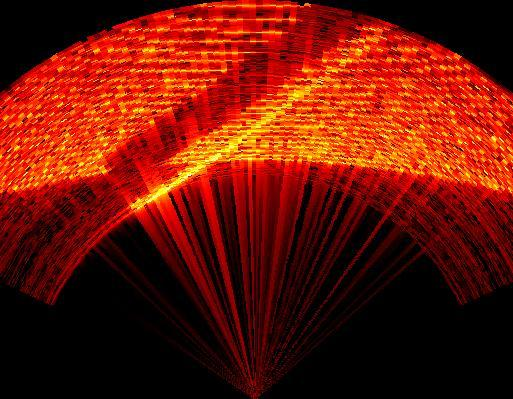pipe: (98, 7, 395, 208)
